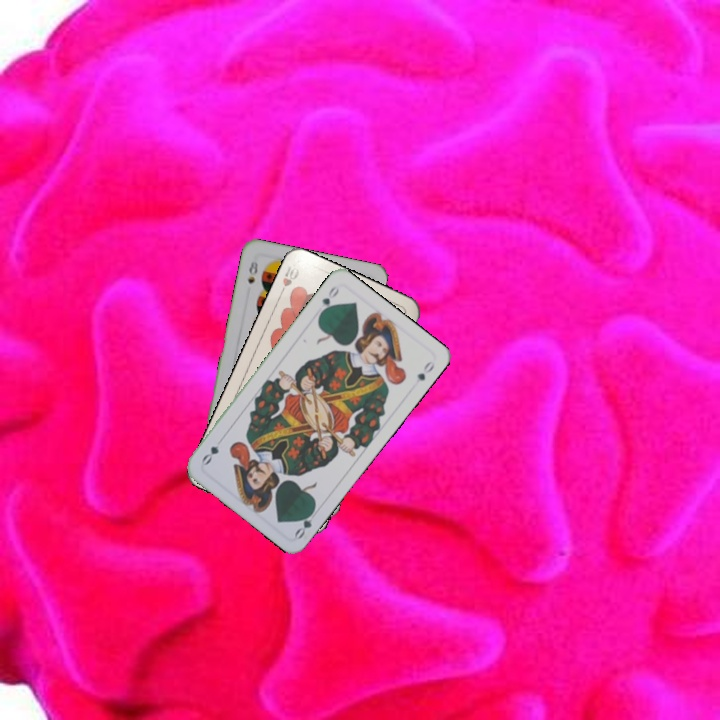GO: (291, 503, 321, 541), (315, 282, 342, 318)
H10: (275, 262, 302, 299)
S8: (243, 257, 261, 286)
